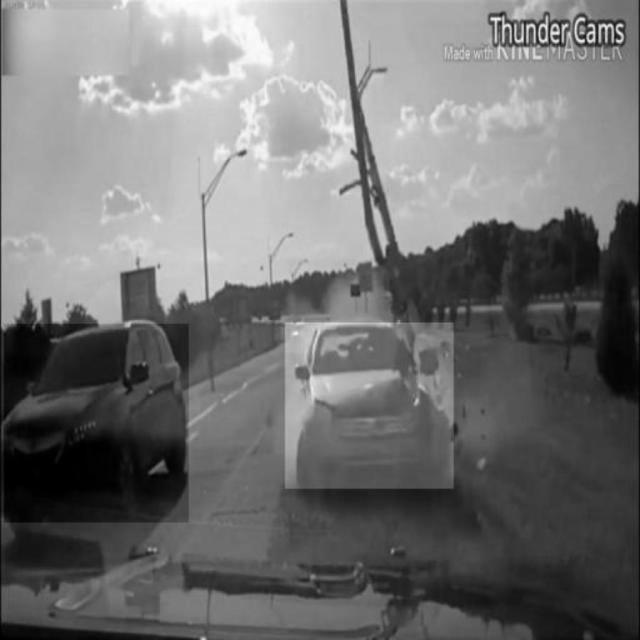vehicle: (4, 324, 189, 522), (285, 323, 453, 489)
